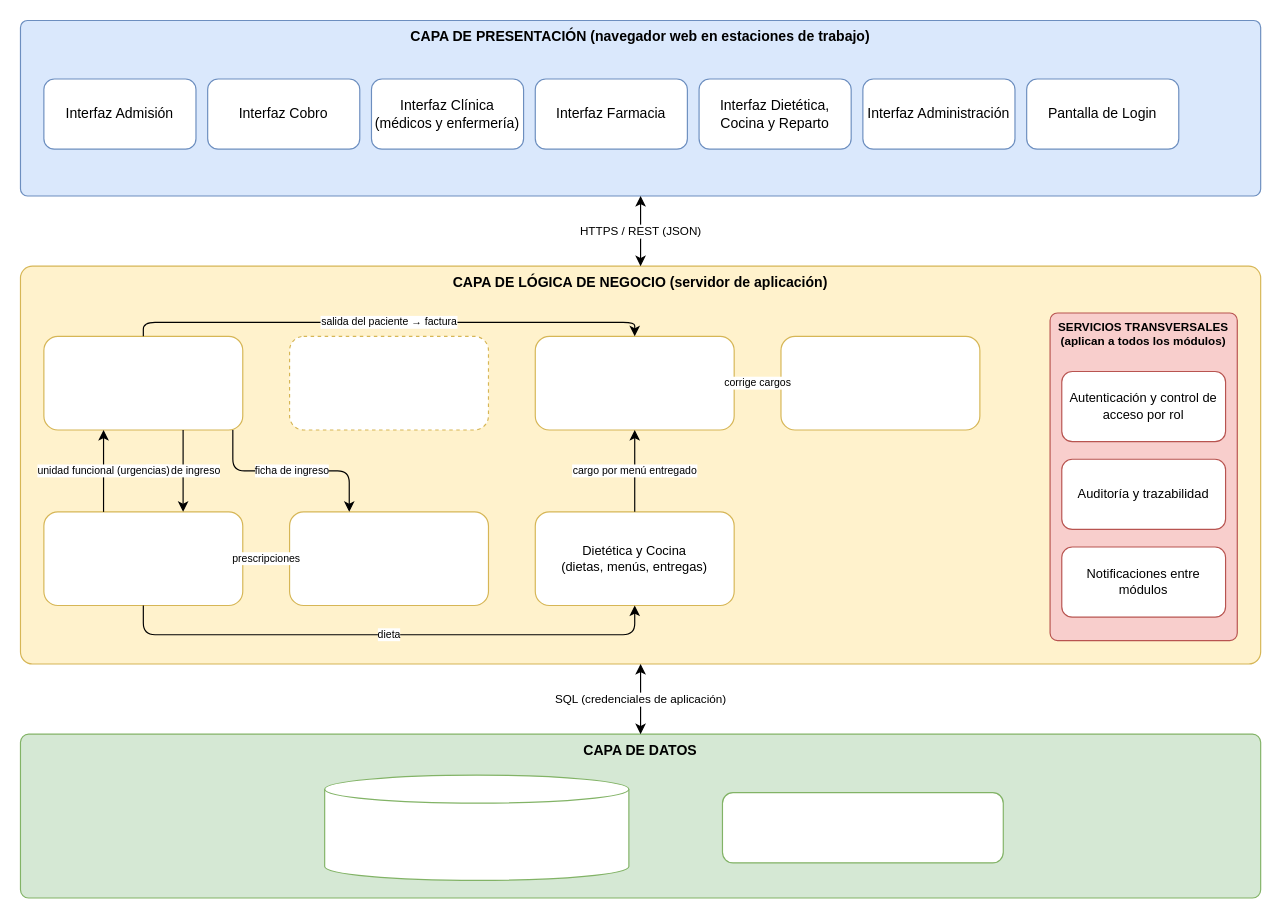
This 1281x918 diagram has some shape labels left out. Each missing label, with the centre of its shape:
Administración (informes, usuarios, tarifas, estructura): the point at 880,382
Admisión (ingreso, salida, forma de pago, disponibilidad): the point at 143,382
Atención Sanitaria (urgencias, historia clínica, visitas, muestras): the point at 143,558
Base de datos relacional centralizada (MySQL): the point at 476,827
Búsqueda de pacientes (independiente, solo lectura): the point at 388,382
Facturación y Cobro (facturas, pagos, recibos): the point at 634,382
Farmacia (verificación, dispensación, almacén): the point at 388,558
Servicio de impresión (facturas, recibos, formularios): the point at 862,827
